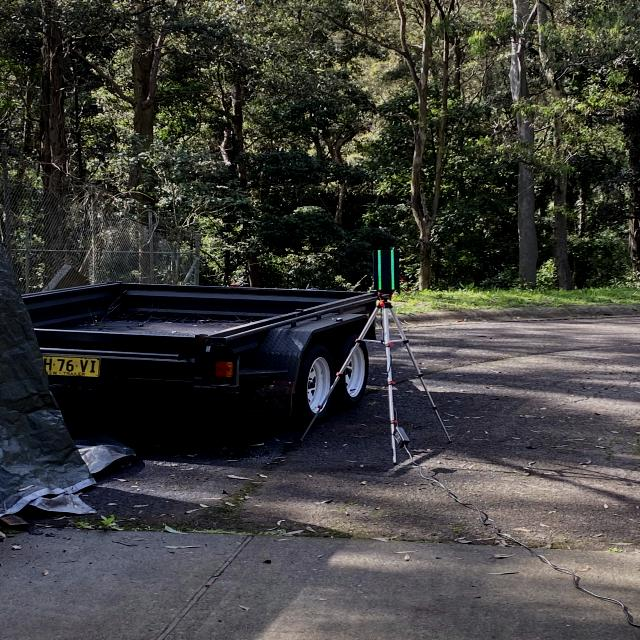matrix: (371, 246, 404, 292)
